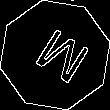M_SW: (22, 21, 88, 89)
